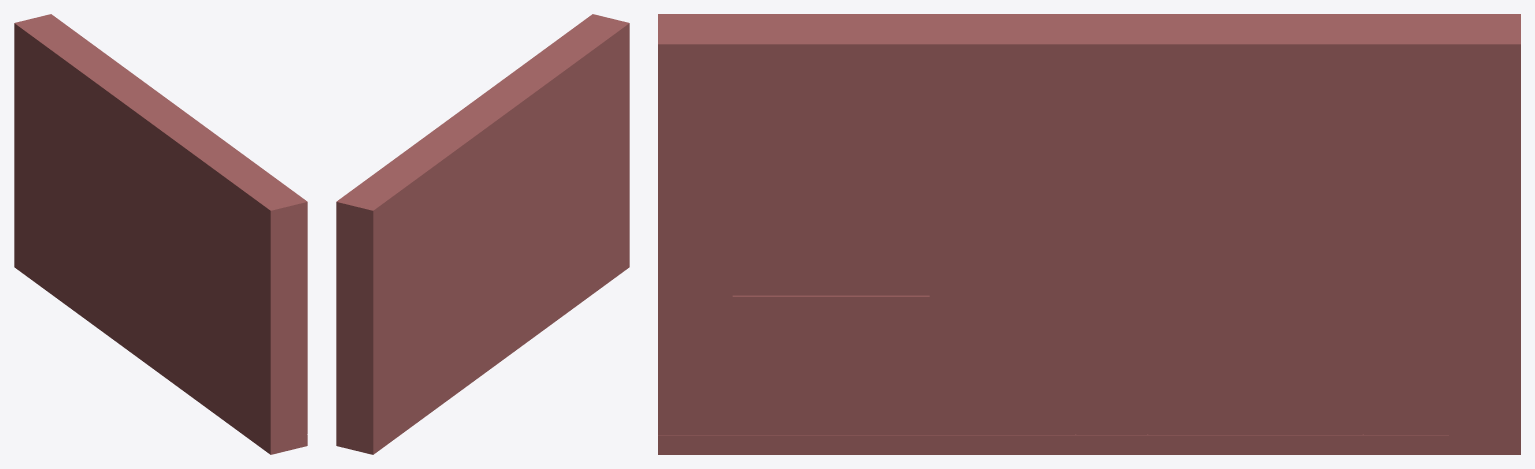
The model's file is Counter_8_Exhibition_No_Group_Wall_1.FBX.
3 views of the same model, side by side, from view 1: azimuth 30°, elevation 25°; view 2: azimuth 150°, elevation 25°; view 3: azimuth 270°, elevation 25° (orthographic). The views are drawn at different scales.
Visible parts, largest first — view 1: Counter_8_Exhibition_No_Group_Wall_1; view 2: Counter_8_Exhibition_No_Group_Wall_1; view 3: Counter_8_Exhibition_No_Group_Wall_1.
Boxes of the visible parts, <box> form: Counter_8_Exhibition_No_Group_Wall_1: <box>14,14,307,454</box>; Counter_8_Exhibition_No_Group_Wall_1: <box>336,14,629,454</box>; Counter_8_Exhibition_No_Group_Wall_1: <box>658,14,1520,454</box>.
Size of the model in its own units: 50 by 315 by 600.
